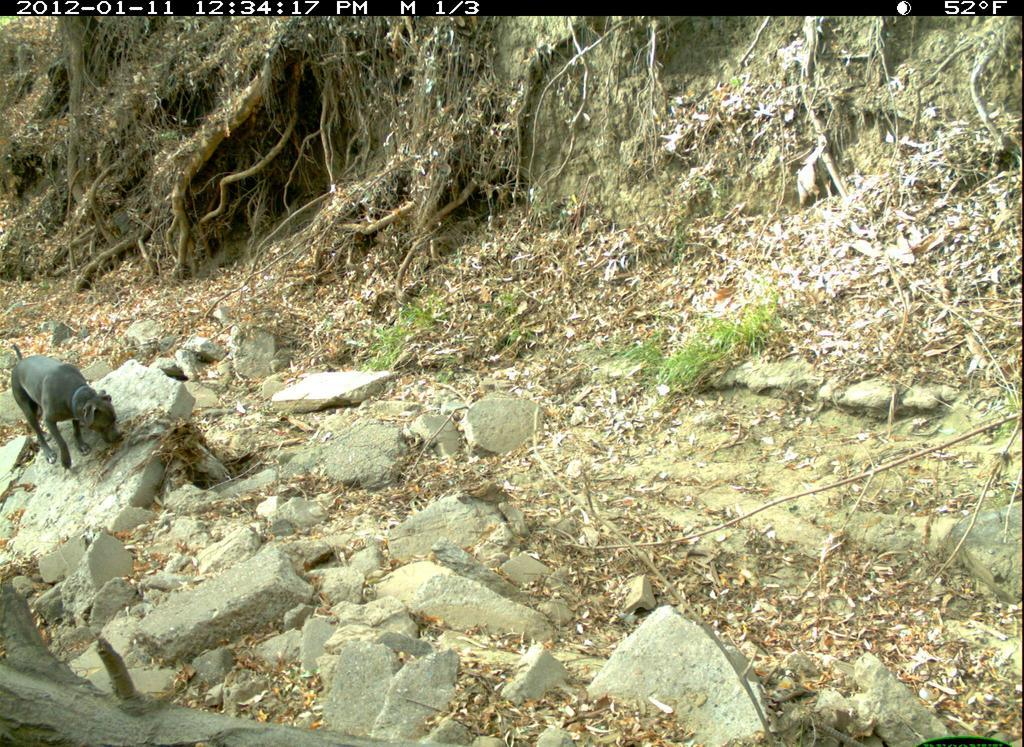dog: (6, 341, 152, 475)
